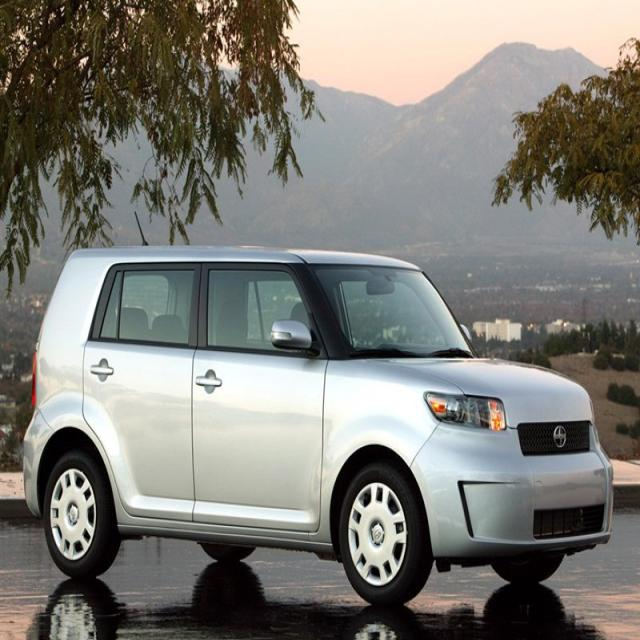back_right_side_light: (26, 346, 45, 411)
door: (76, 261, 206, 541)
front_bumper: (408, 419, 614, 555)
front_glass: (306, 257, 474, 359)
front_right_side_door: (189, 255, 333, 544)
front_right_side_light: (423, 390, 510, 432)
front_right_side_mirror: (268, 317, 317, 357)
wheel: (343, 466, 428, 604), (44, 446, 114, 572)
